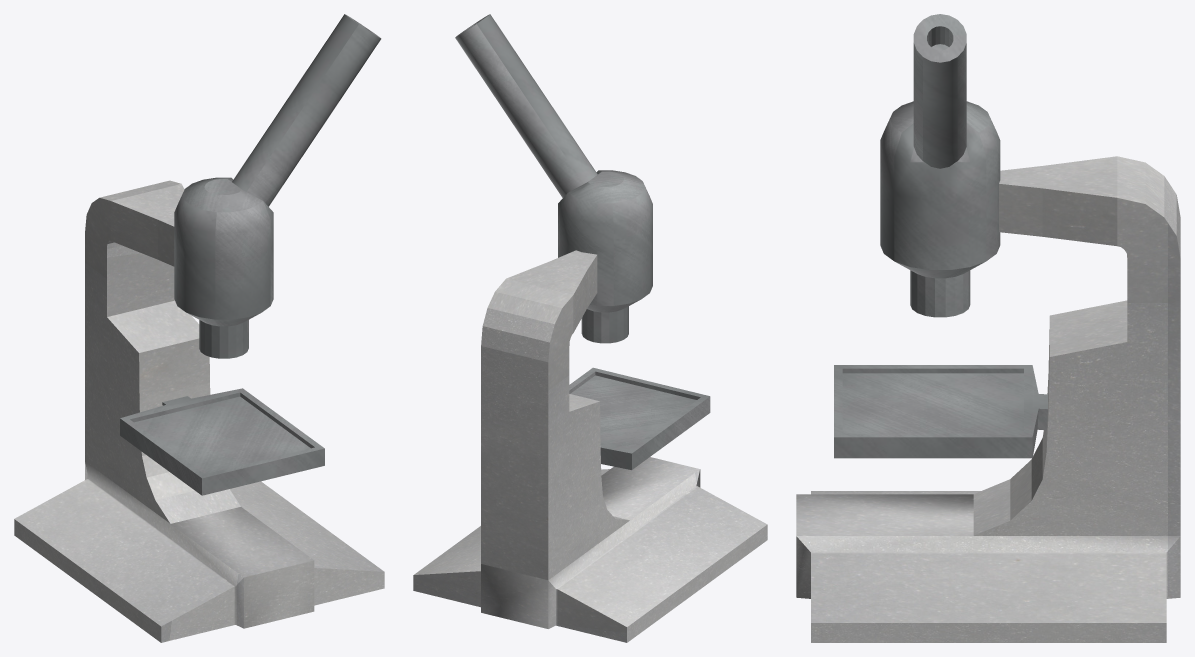
File: mikroskop.FBX
3 views of the same model, side by side, from view 1: azimuth 30°, elevation 25°; view 2: azimuth 150°, elevation 25°; view 3: azimuth 270°, elevation 25° (orthographic). The views are drawn at different scales.
Visible parts, largest first — view 1: Box001; view 2: Box001; view 3: Box001.
Part boxes in pixels (box(x1,y1,x2,y2)): Box001: box(14, 14, 384, 642); Box001: box(413, 14, 767, 642); Box001: box(796, 14, 1180, 642).
Size of the model in its own units: 42.65 by 79.72 by 43.48.
2 materials, 2 textured.
